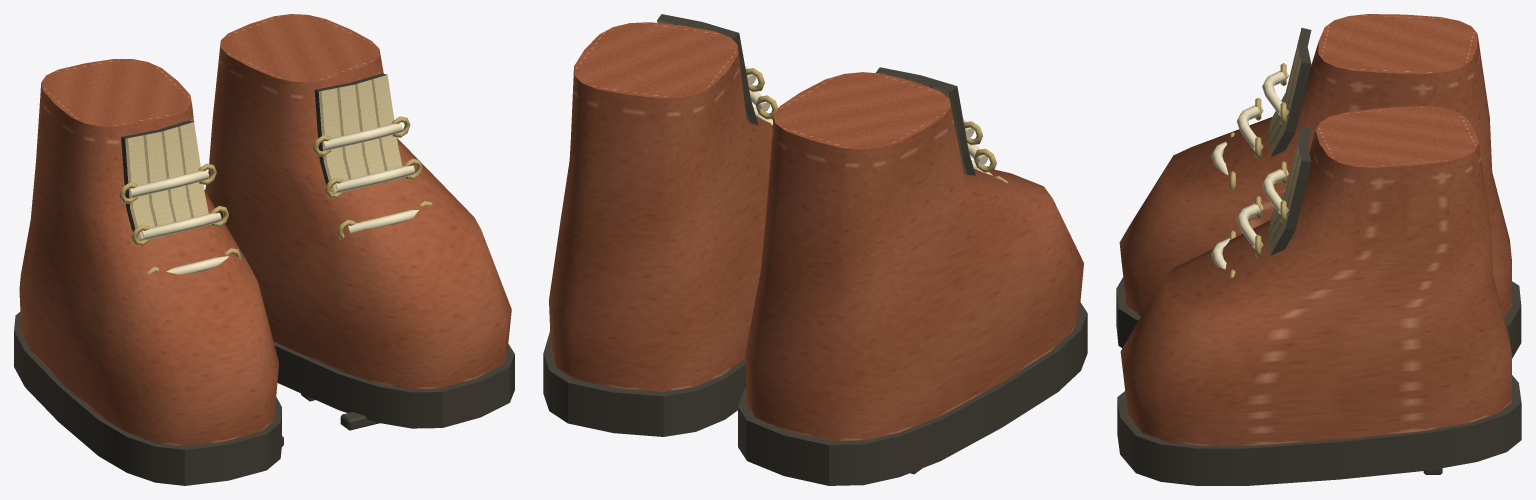
The model's file is sprint_shoes.obj.
3 views of the same model, side by side, from view 1: azimuth 30°, elevation 25°; view 2: azimuth 150°, elevation 25°; view 3: azimuth 270°, elevation 25° (orthographic). The views are drawn at different scales.
Visible parts, largest first — view 1: A_ShoeUpper1.001_sprint_shoes_leather, A_ShoeUpper0.001_sprint_shoes_leather, B_CrispSole0.001_sprint_shoes_rubber, B_CrispSole1.001_sprint_shoes_rubber, C_CanvasTongue1.001_sprint_shoes_canvas, C_CanvasTongue0.001_sprint_shoes_canvas, D_Lace0_1.001_sprint_shoes_laces, D_Lace1_1.001_sprint_shoes_laces, D_Lace1_2.001_sprint_shoes_laces, D_Lace0_2.001_sprint_shoes_laces, D_Lace1_0.001_sprint_shoes_laces, C_CanvasTongue1.001_sprint_shoes_rubber (+2 smaller); view 2: A_ShoeUpper0.001_sprint_shoes_leather, A_ShoeUpper1.001_sprint_shoes_leather, B_CrispSole0.001_sprint_shoes_rubber, B_CrispSole1.001_sprint_shoes_rubber, C_CanvasTongue0.001_sprint_shoes_rubber, C_CanvasTongue1.001_sprint_shoes_rubber; view 3: A_ShoeUpper1.001_sprint_shoes_leather, A_ShoeUpper0.001_sprint_shoes_leather, B_CrispSole1.001_sprint_shoes_rubber, B_CrispSole0.001_sprint_shoes_rubber, C_CanvasTongue1.001_sprint_shoes_rubber, C_CanvasTongue0.001_sprint_shoes_rubber, C_CanvasTongue1.001_sprint_shoes_canvas, C_CanvasTongue0.001_sprint_shoes_canvas, D_Lace1_2.001_sprint_shoes_laces, D_Lace0_1.001_sprint_shoes_laces, D_Lace0_2.001_sprint_shoes_laces, D_Lace1_1.001_sprint_shoes_laces.
Boxes of the visible parts, <box> form: A_ShoeUpper1.001_sprint_shoes_leather: <box>205,14,511,389</box>; A_ShoeUpper0.001_sprint_shoes_leather: <box>19,59,278,446</box>; B_CrispSole0.001_sprint_shoes_rubber: <box>14,312,281,485</box>; B_CrispSole1.001_sprint_shoes_rubber: <box>273,341,514,428</box>; C_CanvasTongue1.001_sprint_shoes_canvas: <box>318,75,402,193</box>; C_CanvasTongue0.001_sprint_shoes_canvas: <box>125,122,208,239</box>; D_Lace0_1.001_sprint_shoes_laces: <box>142,212,221,240</box>; D_Lace1_1.001_sprint_shoes_laces: <box>335,165,414,192</box>; D_Lace1_2.001_sprint_shoes_laces: <box>323,123,402,150</box>; D_Lace0_2.001_sprint_shoes_laces: <box>130,170,209,197</box>; D_Lace1_0.001_sprint_shoes_laces: <box>348,210,418,233</box>; C_CanvasTongue1.001_sprint_shoes_rubber: <box>314,73,386,191</box>; A_ShoeUpper0.001_sprint_shoes_leather: <box>745,72,1083,441</box>; A_ShoeUpper1.001_sprint_shoes_leather: <box>549,22,773,391</box>; B_CrispSole0.001_sprint_shoes_rubber: <box>738,302,1087,485</box>; B_CrispSole1.001_sprint_shoes_rubber: <box>543,330,746,436</box>; C_CanvasTongue0.001_sprint_shoes_rubber: <box>876,67,975,175</box>; C_CanvasTongue1.001_sprint_shoes_rubber: <box>657,14,758,125</box>; A_ShoeUpper1.001_sprint_shoes_leather: <box>1120,105,1511,445</box>; A_ShoeUpper0.001_sprint_shoes_leather: <box>1119,14,1511,317</box>; B_CrispSole1.001_sprint_shoes_rubber: <box>1117,375,1521,485</box>; B_CrispSole0.001_sprint_shoes_rubber: <box>1116,277,1521,358</box>; C_CanvasTongue1.001_sprint_shoes_rubber: <box>1270,126,1311,255</box>; C_CanvasTongue0.001_sprint_shoes_rubber: <box>1270,27,1311,157</box>; C_CanvasTongue1.001_sprint_shoes_canvas: <box>1268,131,1301,255</box>; C_CanvasTongue0.001_sprint_shoes_canvas: <box>1268,33,1301,156</box>; D_Lace1_2.001_sprint_shoes_laces: <box>1262,168,1288,214</box>; D_Lace0_1.001_sprint_shoes_laces: <box>1236,105,1263,151</box>; D_Lace0_2.001_sprint_shoes_laces: <box>1262,70,1288,116</box>; D_Lace1_1.001_sprint_shoes_laces: <box>1236,203,1263,249</box>.
Bounding box in the file's own units: 1.46 × 1.05 × 1.27.
